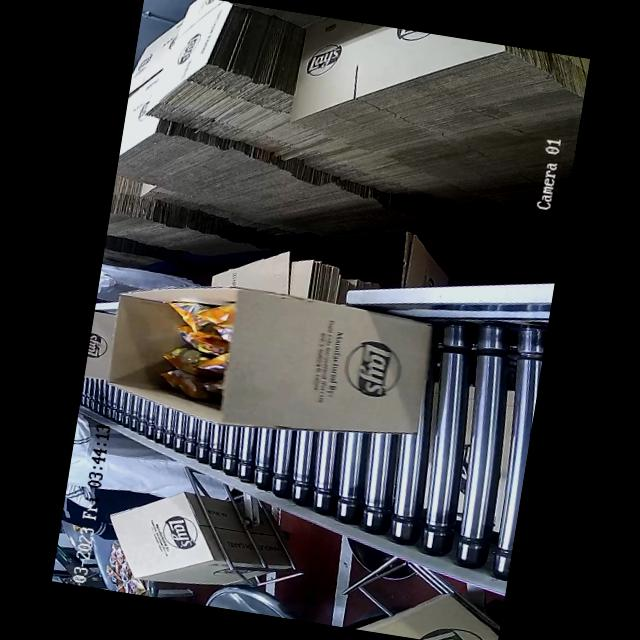cheese: (142, 296, 246, 406)
